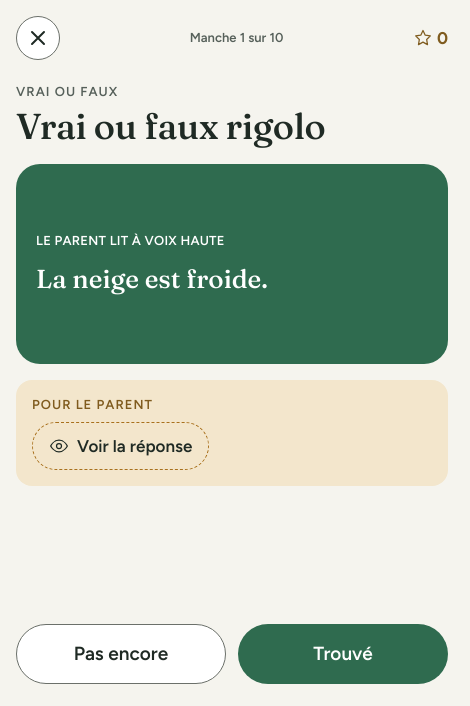
Vrai ou faux rigolo, en jeu › le parent lit l’affirmation ; la réponse et son explication restent cachées
Expected: the text "Vrai ! C’est de l’eau gelée : elle fond quand il fait chaud." is not shown
Click the button "Voir la réponse" at (121,446), box [32,422,209,470]
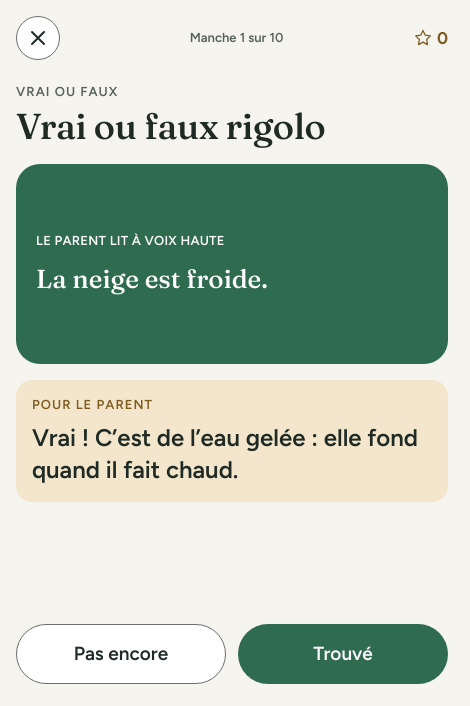
Result: the text "Vrai ! C’est de l’eau gelée : elle fond quand il fait chaud." is shown at [32,422,432,486]
Click the button "Trouvé" at (343,654), box [238,624,448,684]
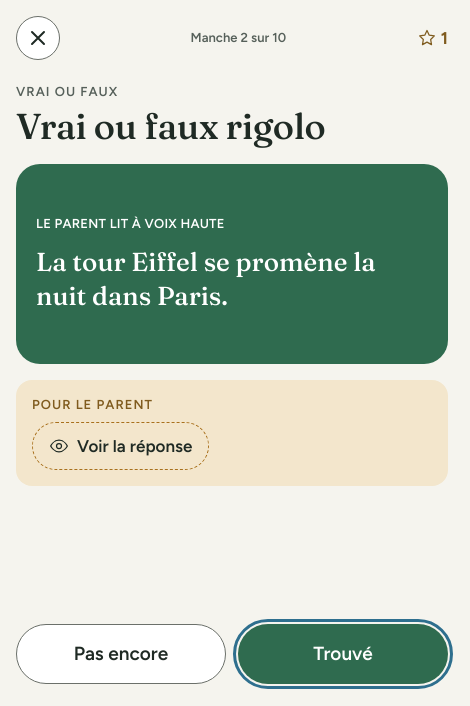
Result: the text "Manche 2 sur 10" is shown at [191,29,286,47]
